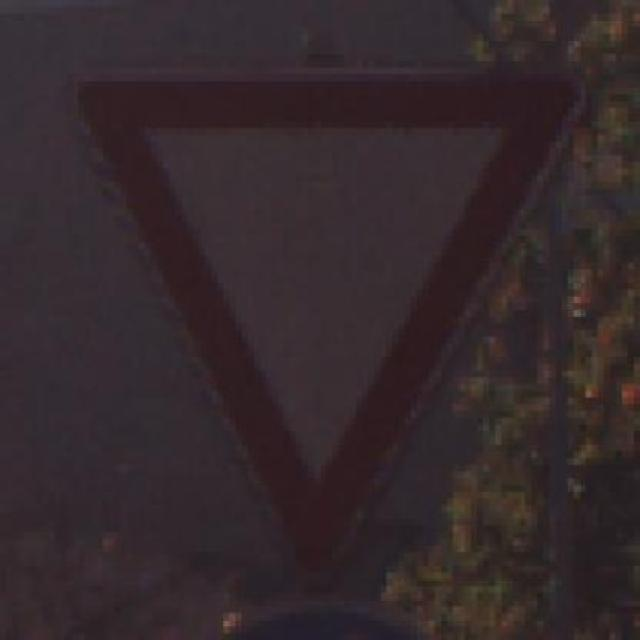Give Way: (84, 61, 598, 573)
